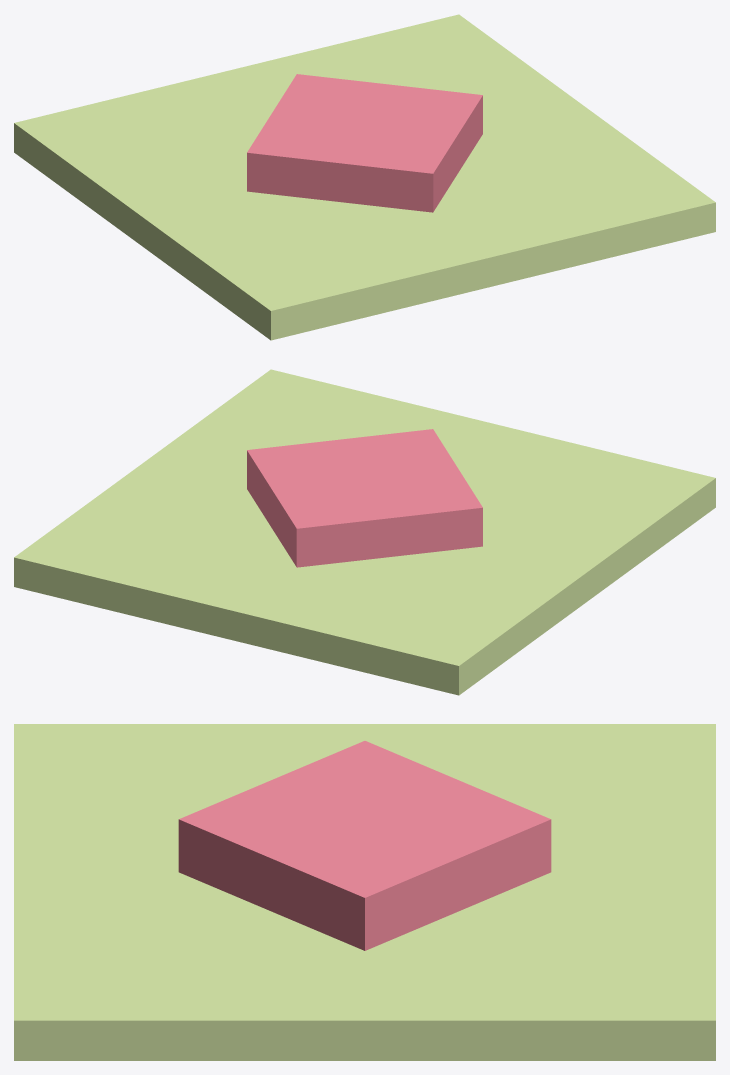
Rendered from obstacleDiamond.fbx.
3 renders of one model, top to bottom at view 1: azimuth 30°, elevation 25°; view 2: azimuth 150°, elevation 25°; view 3: azimuth 270°, elevation 25°, orthographic. The views are drawn at different scales.
Visible parts, largest first — view 1: obstacleDiamond; view 2: obstacleDiamond; view 3: obstacleDiamond.
Part boxes in pixels (bbox=[...]): obstacleDiamond: bbox=[14, 14, 715, 340]; obstacleDiamond: bbox=[14, 369, 715, 695]; obstacleDiamond: bbox=[14, 724, 715, 1060].
Size of the model in its own units: 99.99 by 14.67 by 99.99.
